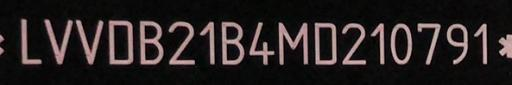letter: (275, 19, 311, 68), (39, 17, 73, 66), (104, 17, 136, 66), (166, 18, 198, 67), (72, 17, 104, 64), (135, 17, 165, 66), (215, 19, 245, 68), (414, 20, 444, 69), (17, 16, 45, 67), (246, 19, 276, 66), (310, 20, 340, 67), (340, 19, 368, 68), (443, 21, 473, 66), (388, 19, 414, 68), (472, 21, 496, 70), (370, 18, 388, 67), (198, 19, 216, 66)
